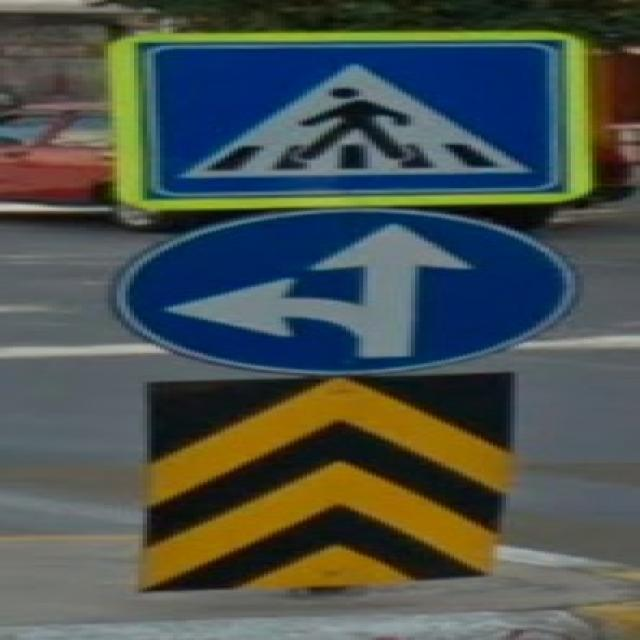Straight or Left: (105, 209, 580, 373)
